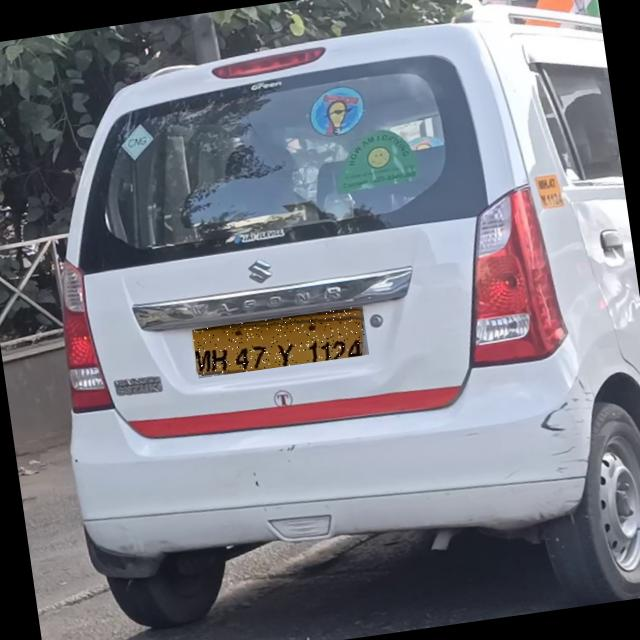Plate: (193, 307, 370, 379)
